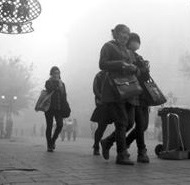person: (97, 22, 138, 166), (116, 30, 154, 162), (33, 65, 72, 153), (60, 118, 66, 142), (72, 118, 78, 141), (39, 123, 46, 141), (67, 118, 72, 141)
